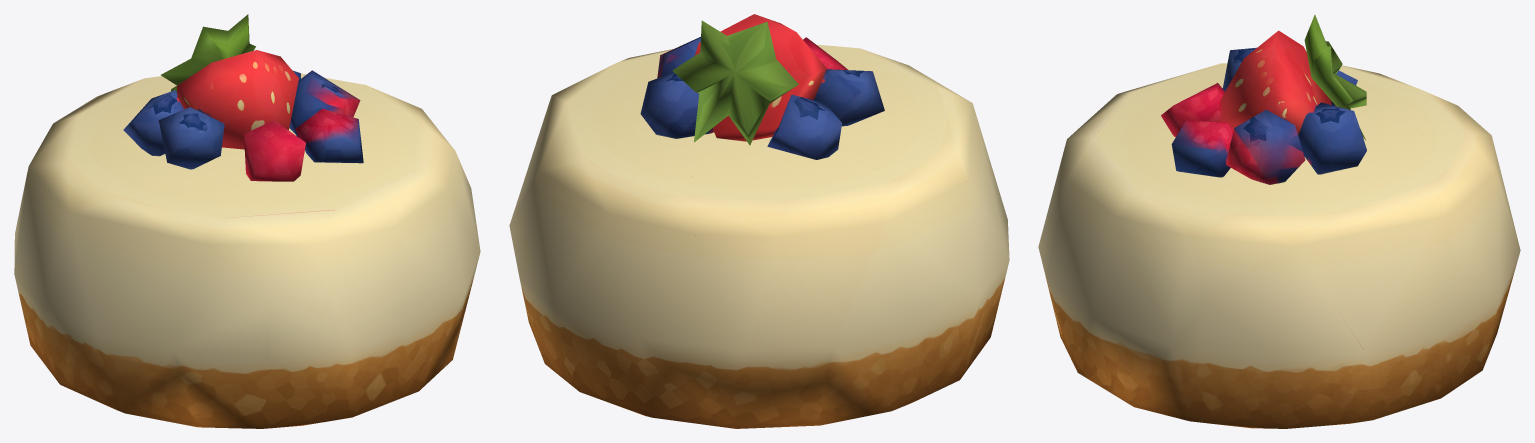
The model's file is source.fbx.
The picture shows the model from 3 angles, left to right: view 1: azimuth 30°, elevation 25°; view 2: azimuth 150°, elevation 25°; view 3: azimuth 270°, elevation 25°; orthographic projection. The views are drawn at different scales.
Visible parts, largest first — view 1: Mesh_0; view 2: Mesh_0; view 3: Mesh_0.
Boxes of the visible parts, left/top/right/bottom form: Mesh_0: left=14, top=14, right=480, bottom=428; Mesh_0: left=509, top=14, right=1009, bottom=428; Mesh_0: left=1038, top=14, right=1520, bottom=428.
Size of the model in its own units: 24.49 by 18 by 24.69.
Materials: 1 (1 with a texture image).
